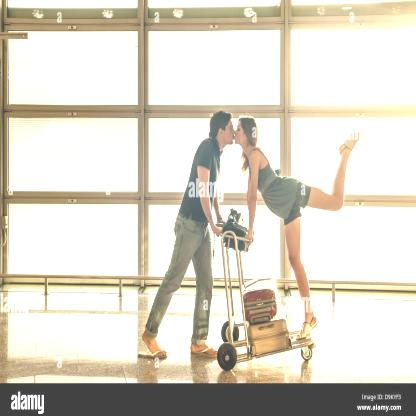airport-trolley: (214, 218, 314, 372)
